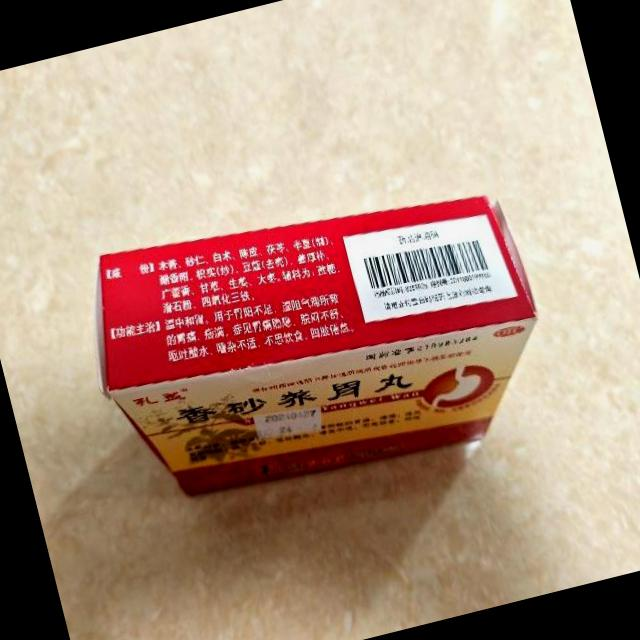box: (72, 155, 566, 524)
